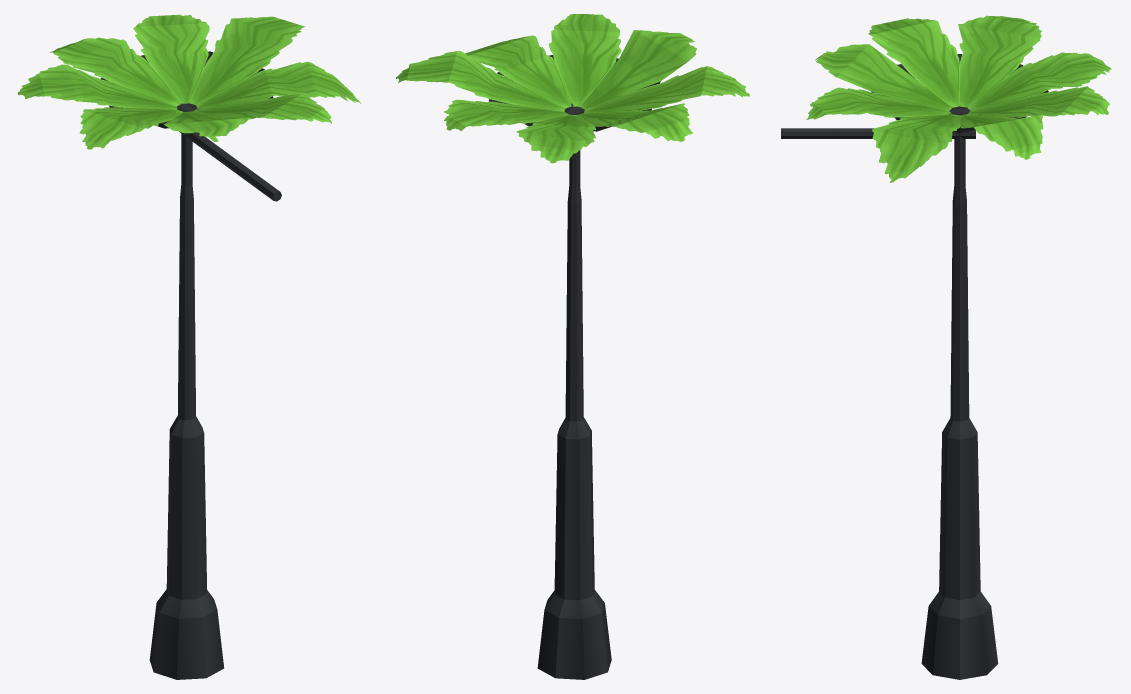
Rendered from LampPost01.fbx.
3 views of the same model, side by side, from view 1: azimuth 30°, elevation 25°; view 2: azimuth 150°, elevation 25°; view 3: azimuth 270°, elevation 25° (orthographic).
Parts seen in each view (by area): view 1: LampPost01; view 2: LampPost01; view 3: LampPost01.
Boxes of the visible parts, box(x1,y1,x2,y2) form: LampPost01: box(17, 14, 361, 679); LampPost01: box(396, 14, 749, 679); LampPost01: box(781, 15, 1111, 679).
Bounding box in the file's own units: 1.32 × 1.31 × 2.55.
